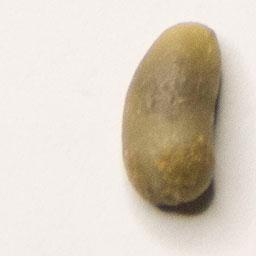longberry: (119, 18, 225, 211)
